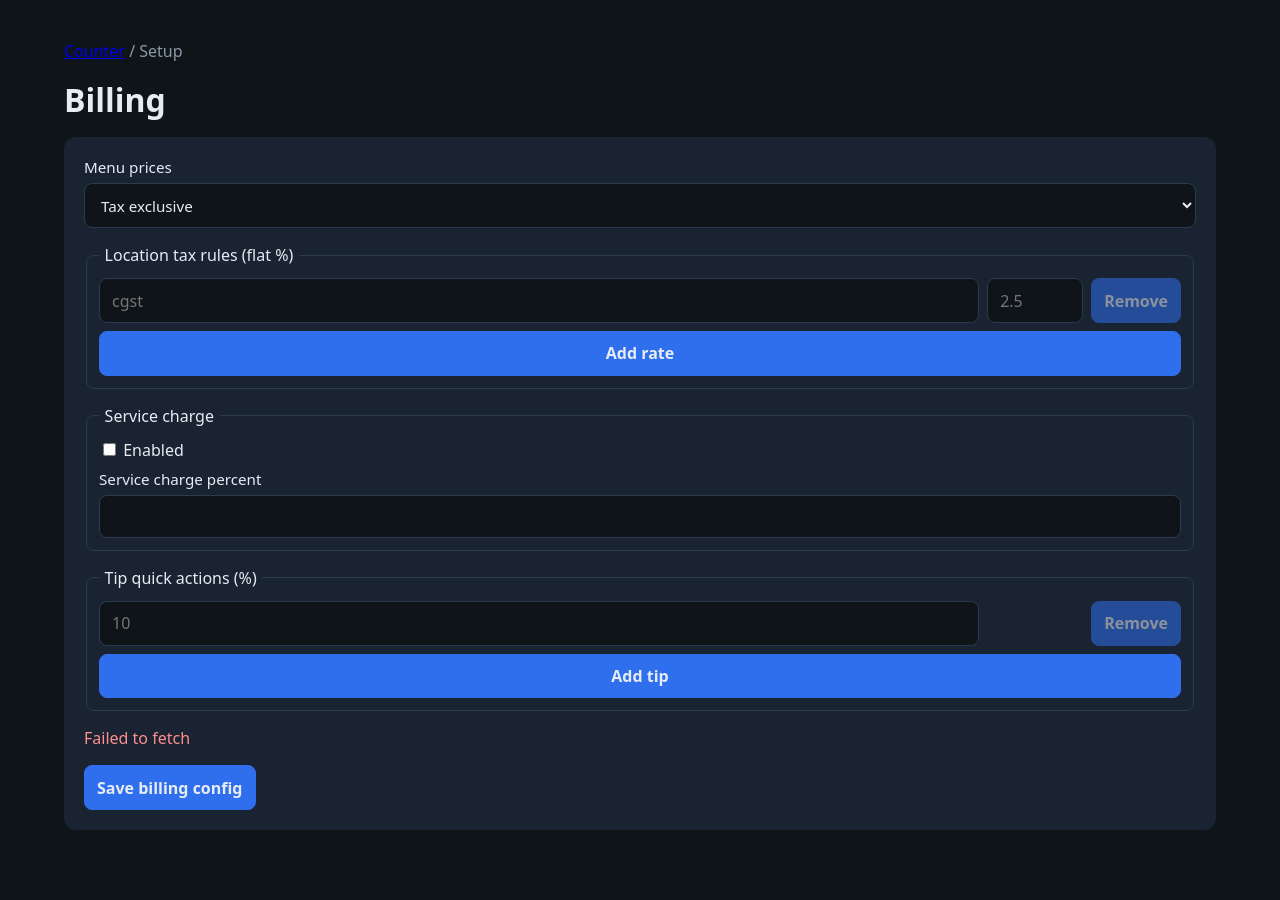
Test: BillingSetupScreen (MSW) › shows flat tax validation errors
Type "gst" into the field named "Tax key 1". click: {"x": 539, "y": 301}
box: [99,278,979,323]
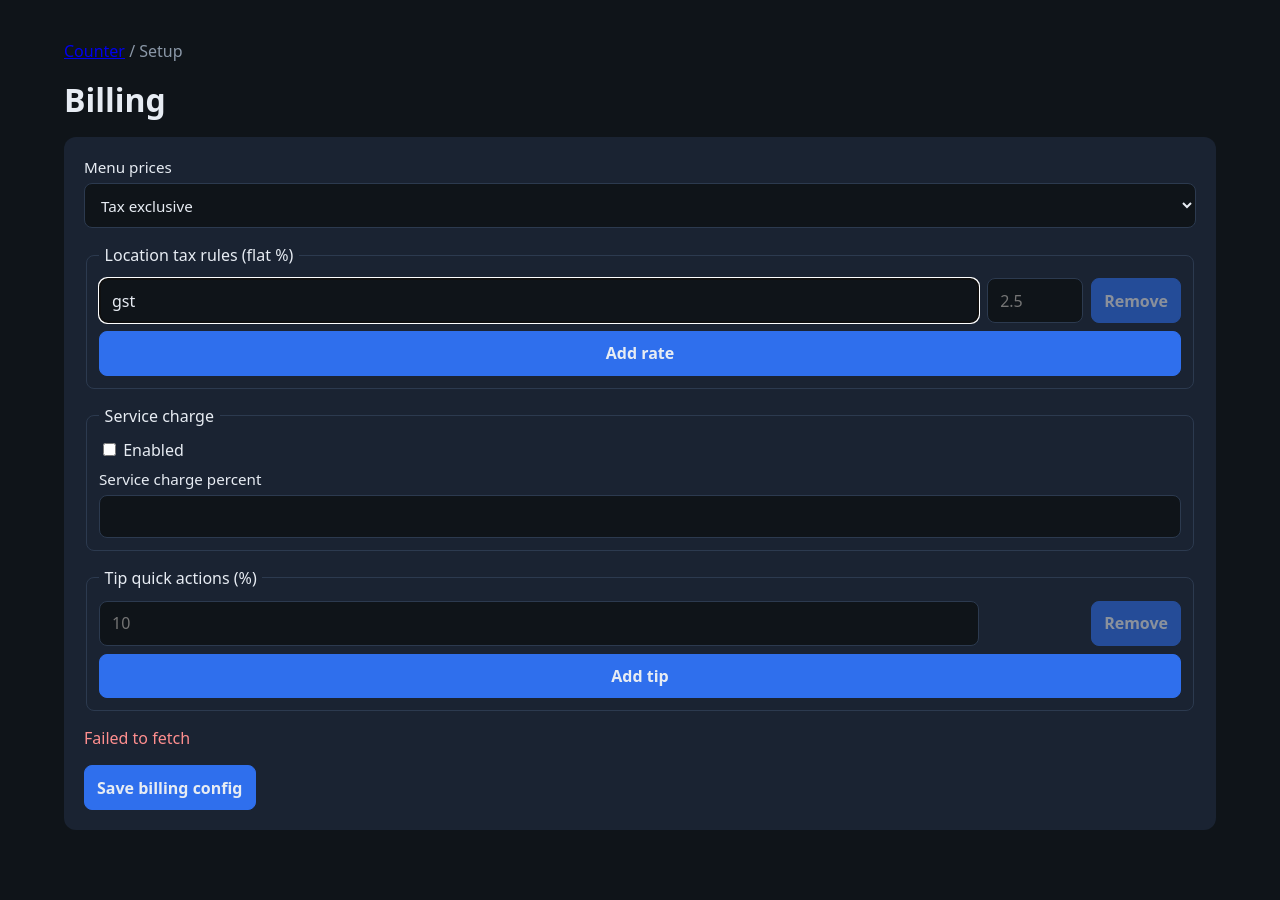
Type "-1" into the field named "Tax percent 1". click: {"x": 1035, "y": 301}
box: [987,278,1083,323]
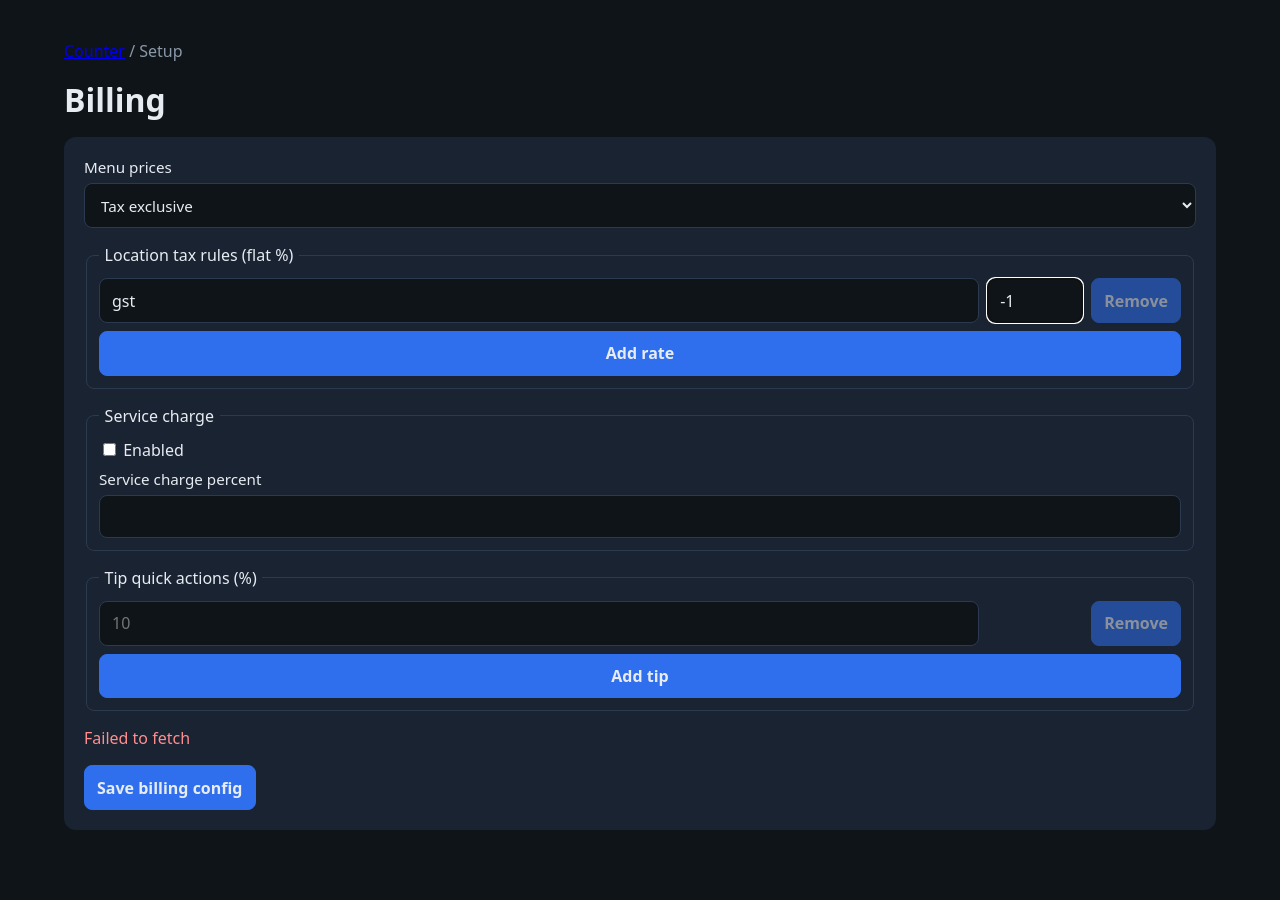
Click the button "Save billing config". click: {"x": 170, "y": 788}
box: [84,766,256,810]
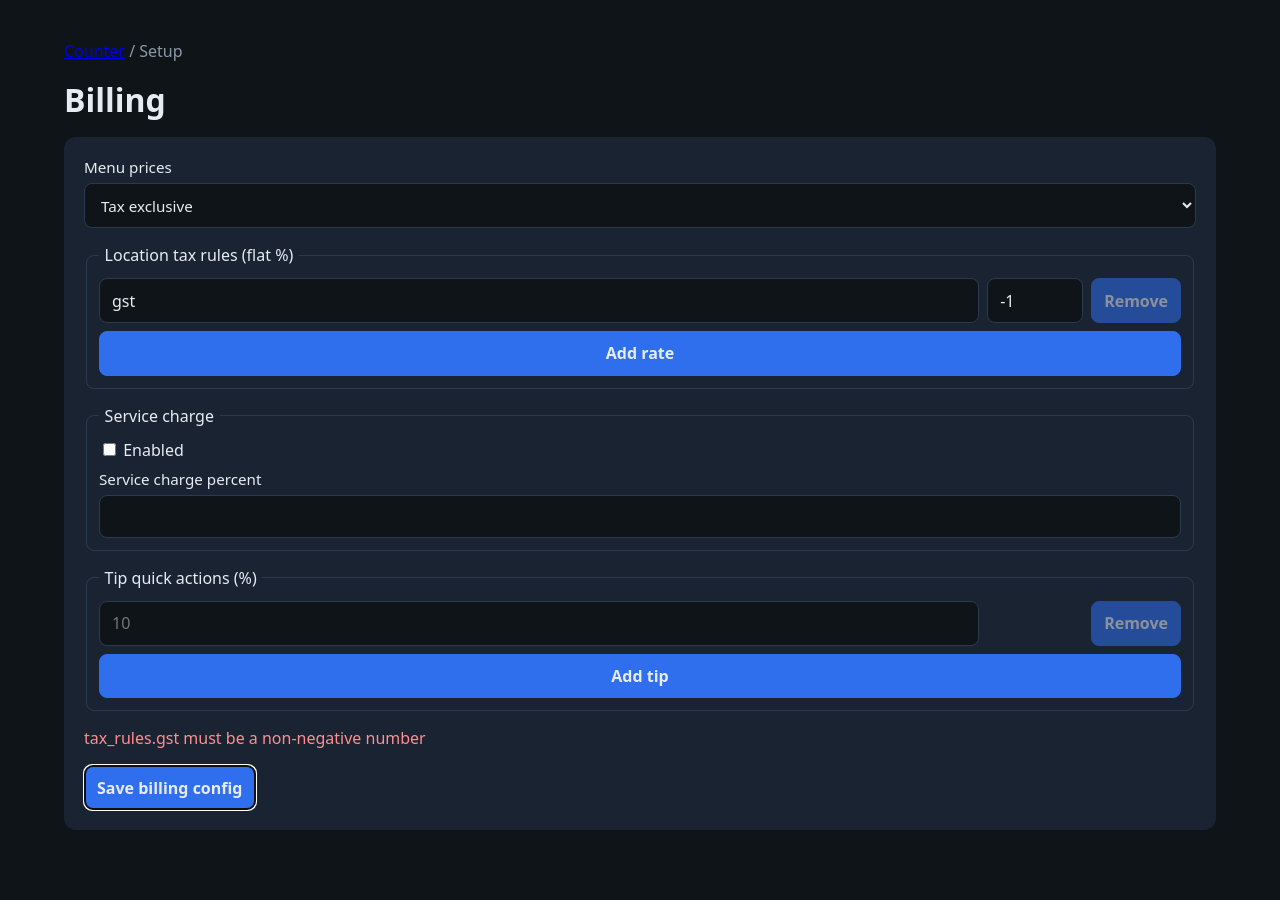
Now the text "tax_rules.gst must be a non-negative number" is shown, box [84,728,426,750]
